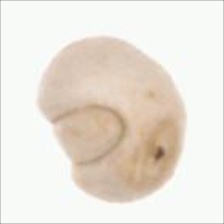L5: (49, 103, 130, 169)
L6: (35, 34, 190, 204)
